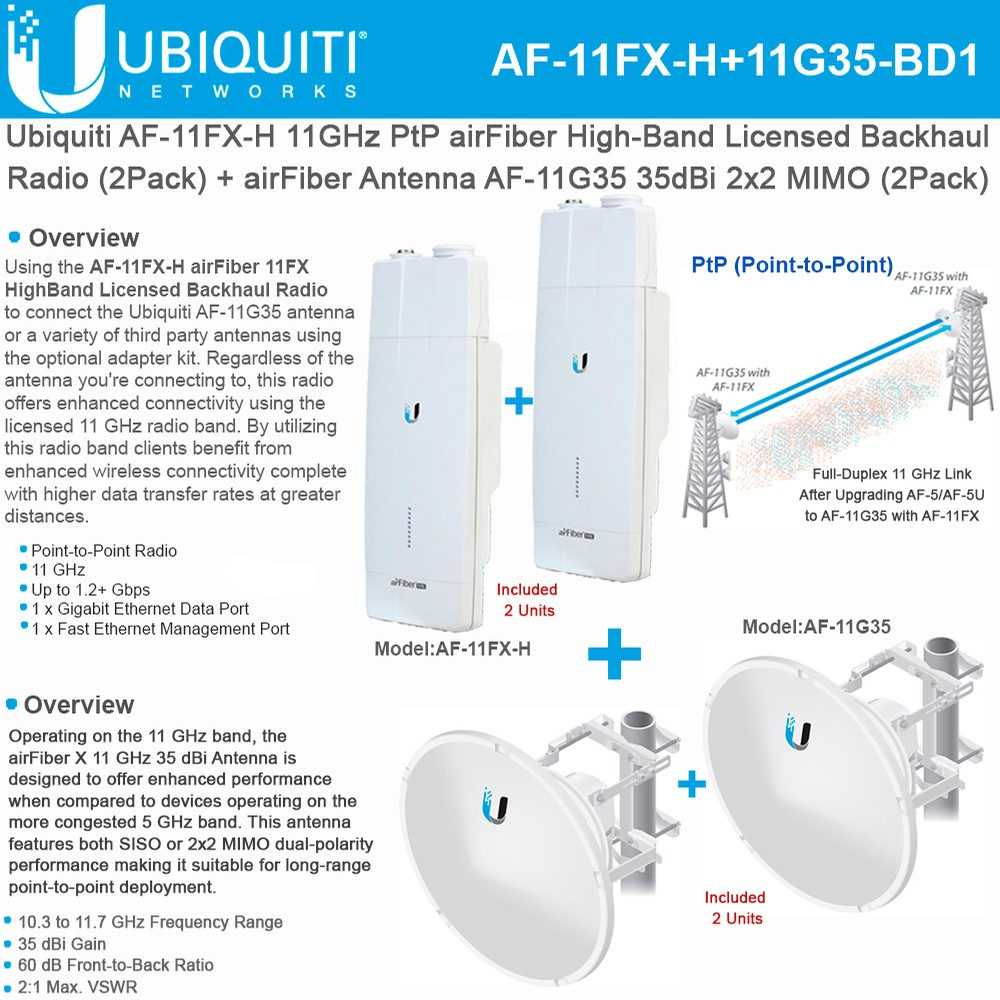ba: (399, 713, 637, 982)
